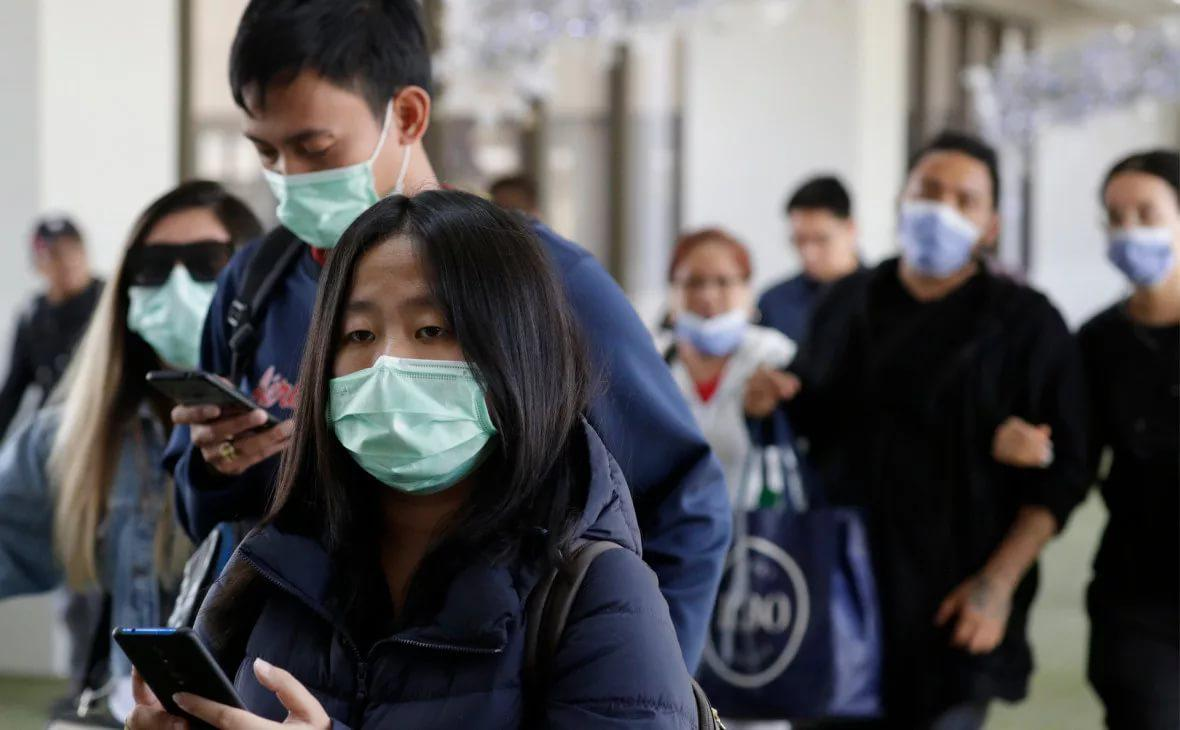mask: (327, 244, 497, 493), (240, 52, 373, 207), (127, 213, 229, 367), (910, 152, 997, 275), (1107, 187, 1180, 279)
none: (795, 201, 847, 275)
poor: (673, 247, 745, 348)
